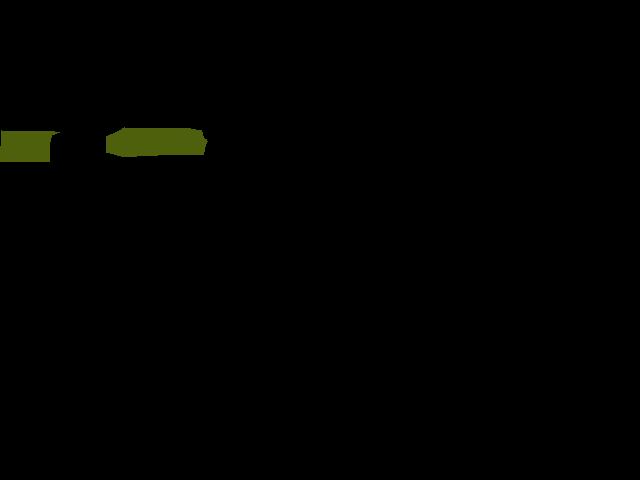Train: (106, 127, 207, 157), (0, 130, 59, 162)
